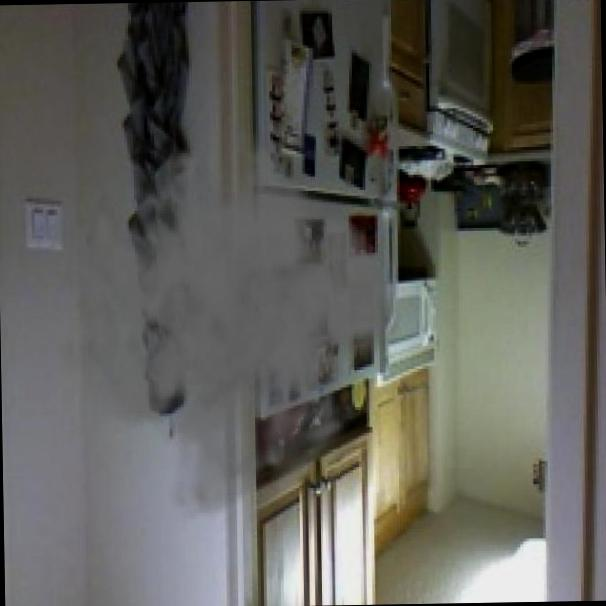smoke: (50, 103, 406, 526)
